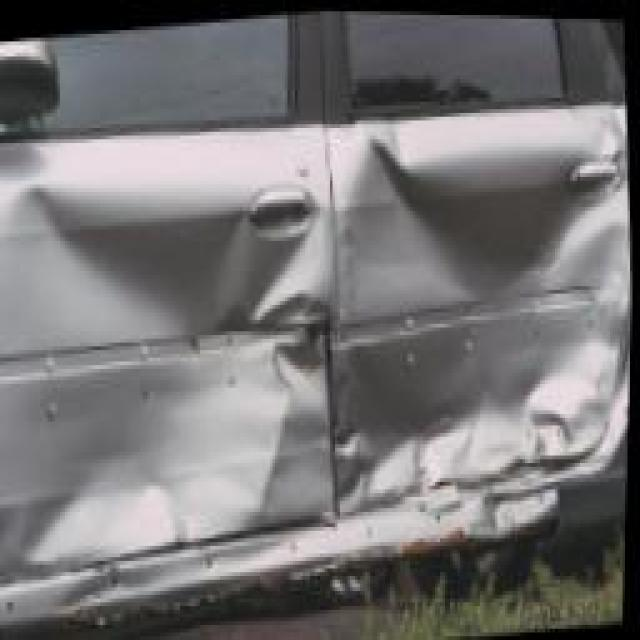Door: (0, 94, 345, 615), (318, 87, 638, 543)
